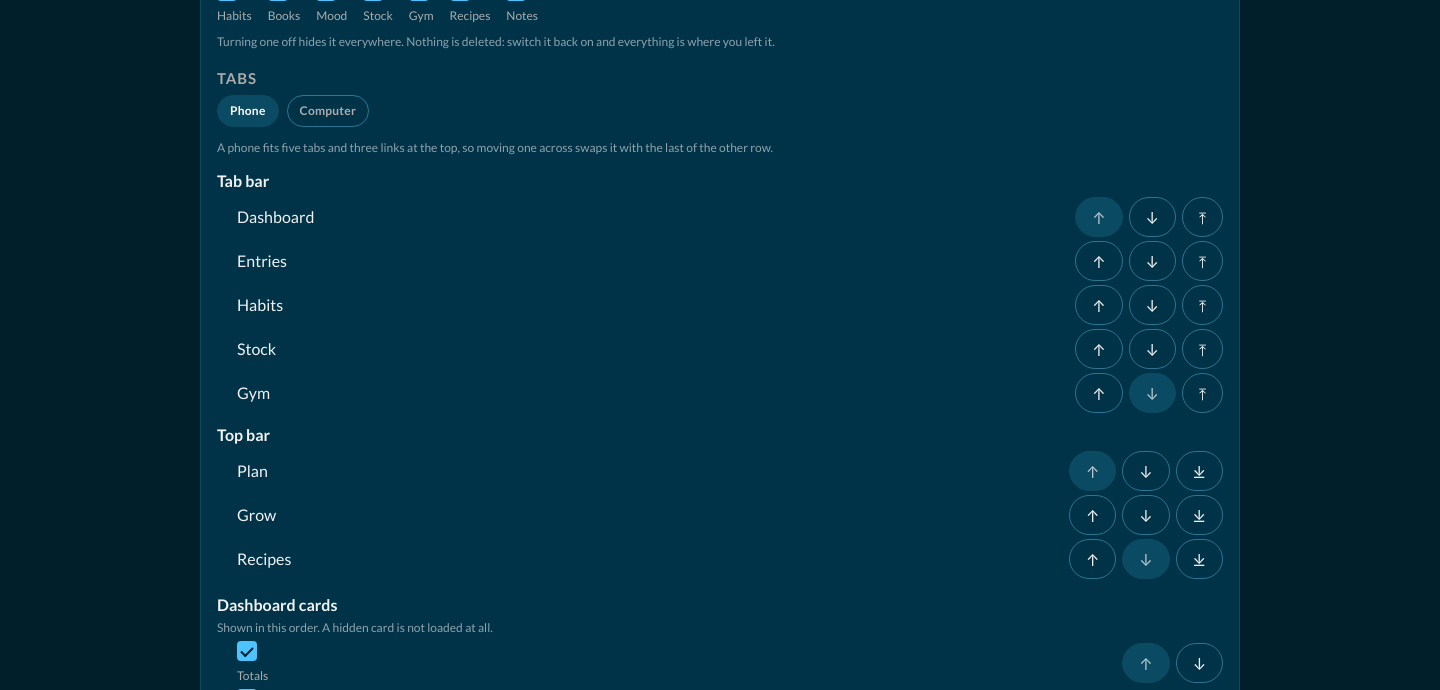
Test case: Settings → Layout → tabs (story 33.4) › swaps a tab into the top bar on a phone, and the bars follow at once
(page scrolled)
Click the button named "Move Gym to the top bar, and Recipes to the tab bar" at (1202, 393), box [1182,373,1223,413]
(page scrolled)
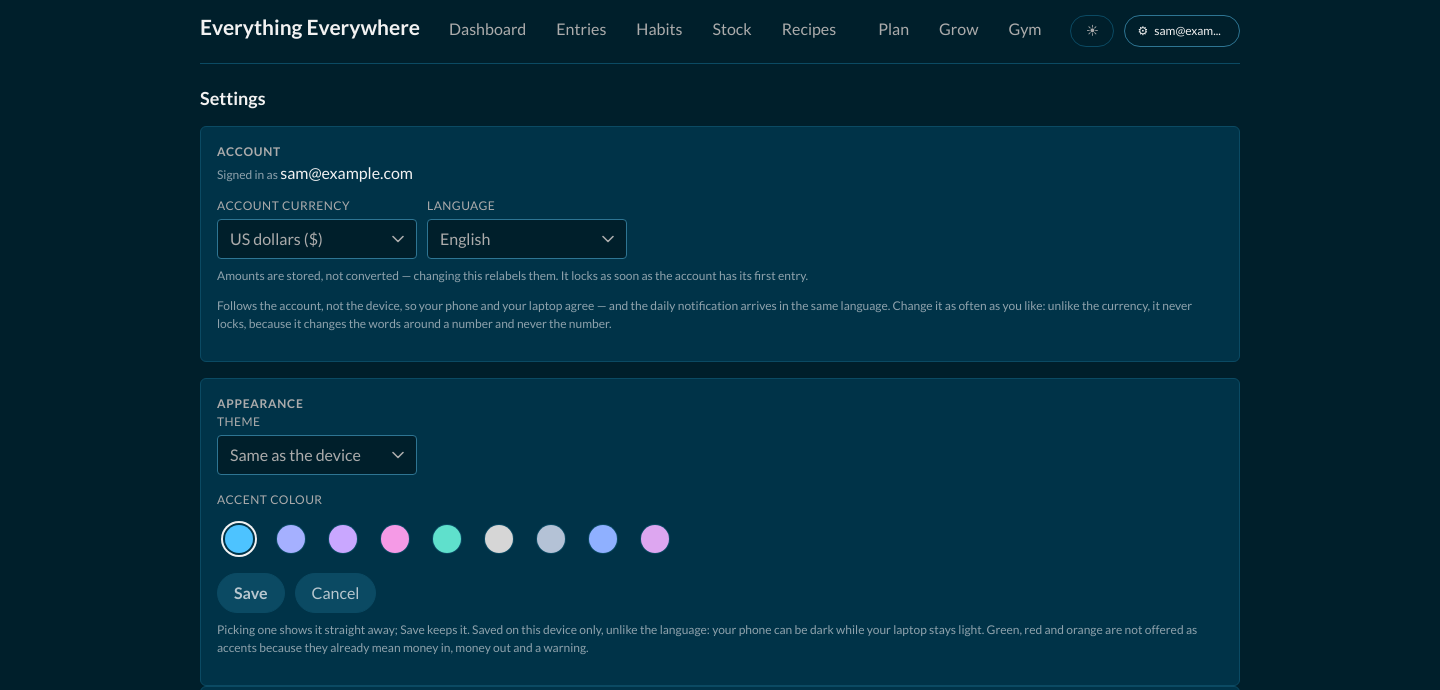
Expected: the link "Gym" is shown, [1008,19,1042,38]
